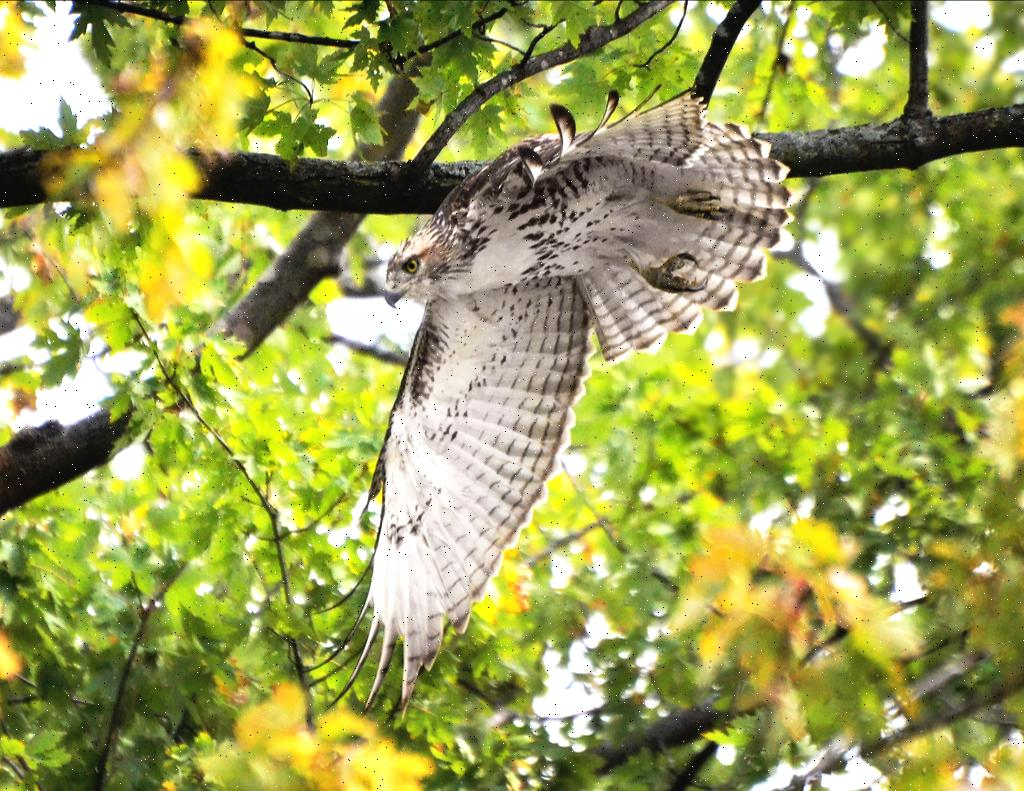Owl: (302, 84, 794, 725)
